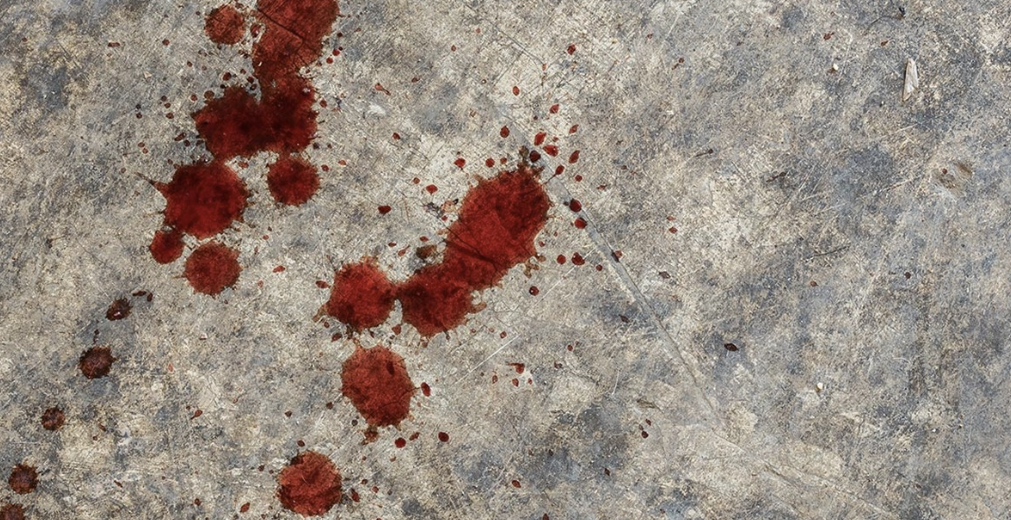blood_8.png: (72, 6, 629, 520)
